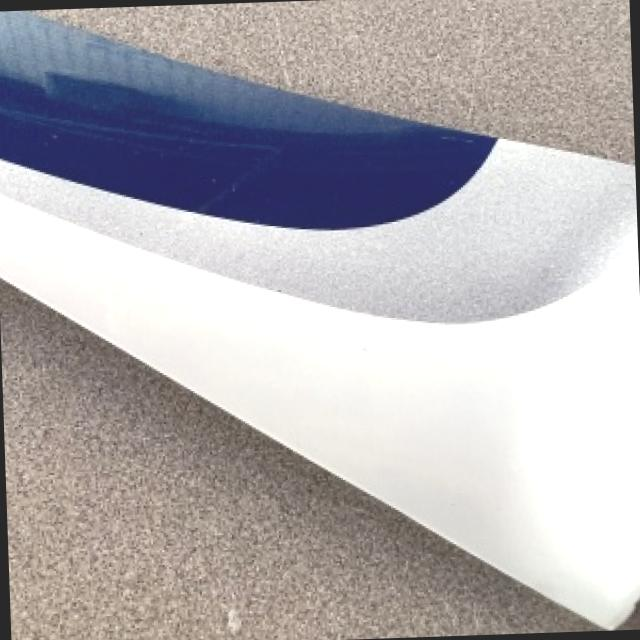healthy: (3, 280, 593, 640)
